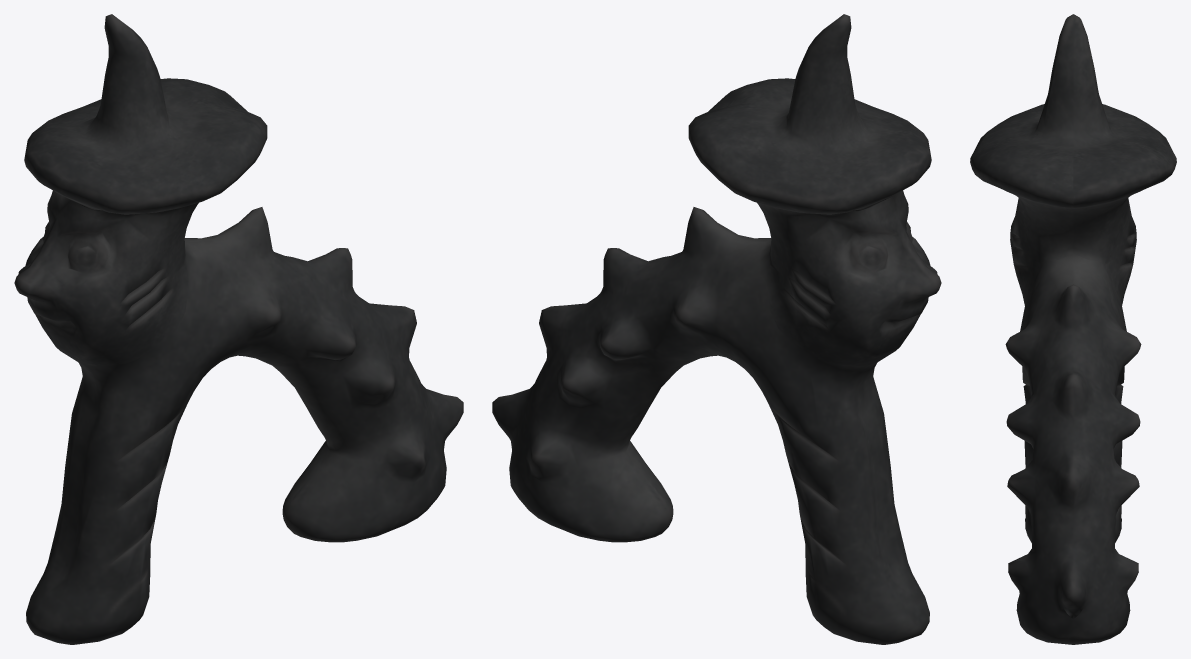
File: SM_RoofOrnament02E.fbx
3 renders of one model, left to right at view 1: azimuth 30°, elevation 25°; view 2: azimuth 150°, elevation 25°; view 3: azimuth 270°, elevation 25°, orthographic. The views are drawn at different scales.
Parts seen in each view (by area): view 1: SM_RoofOrnament02E; view 2: SM_RoofOrnament02E; view 3: SM_RoofOrnament02E.
Boxes of the visible parts, x1,y1,x2,y2 form: SM_RoofOrnament02E: [14, 14, 463, 644]; SM_RoofOrnament02E: [492, 14, 941, 644]; SM_RoofOrnament02E: [970, 14, 1176, 644].
Bounding box in the file's own units: 33.89 × 15.15 × 44.27.
1 material, 1 textured.
